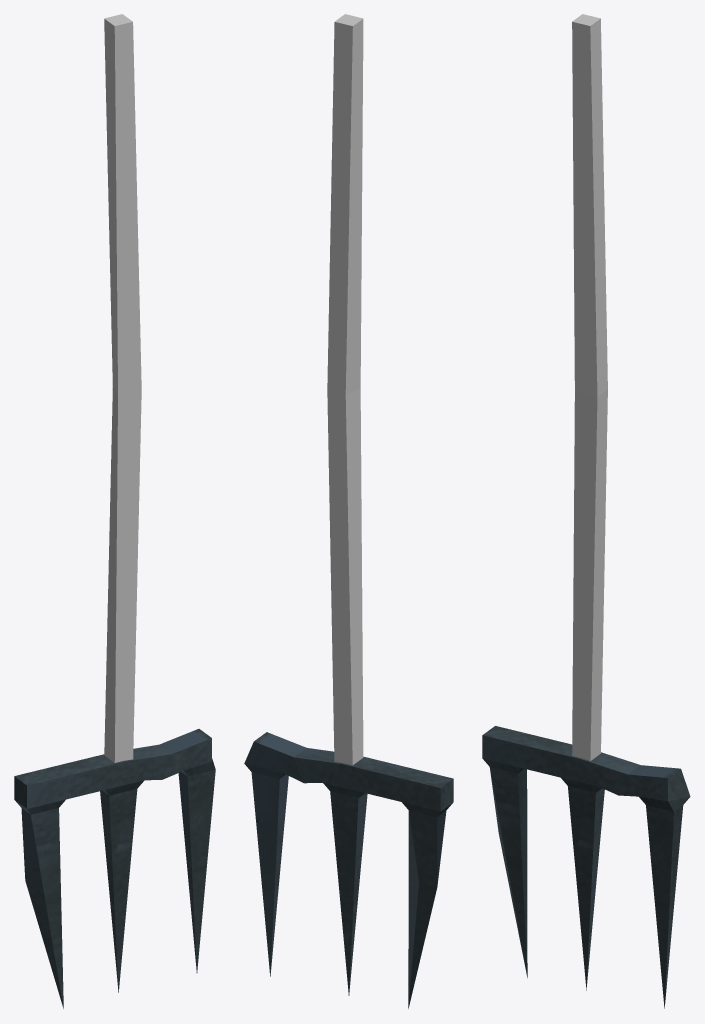
Rendered from Pitchfork.fbx.
3 renders of one model, left to right at view 1: azimuth 30°, elevation 25°; view 2: azimuth 150°, elevation 25°; view 3: azimuth 330°, elevation 25°, orthographic.
Parts seen in each view (by area): view 1: Pitchfork; view 2: Pitchfork; view 3: Pitchfork.
Boxes of the visible parts, x1,y1,x2,y2 form: Pitchfork: (14,14,215,1008); Pitchfork: (244,14,453,1008); Pitchfork: (482,14,690,1008).
Size of the model in its own units: 59.88 by 285 by 7.23.
